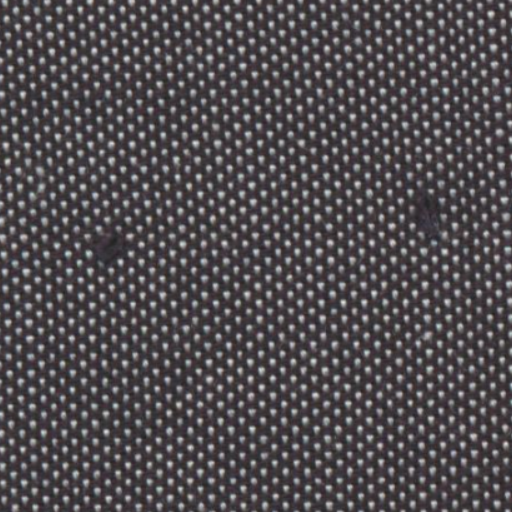MianQiu: (72, 222, 144, 278), (396, 182, 456, 244)
